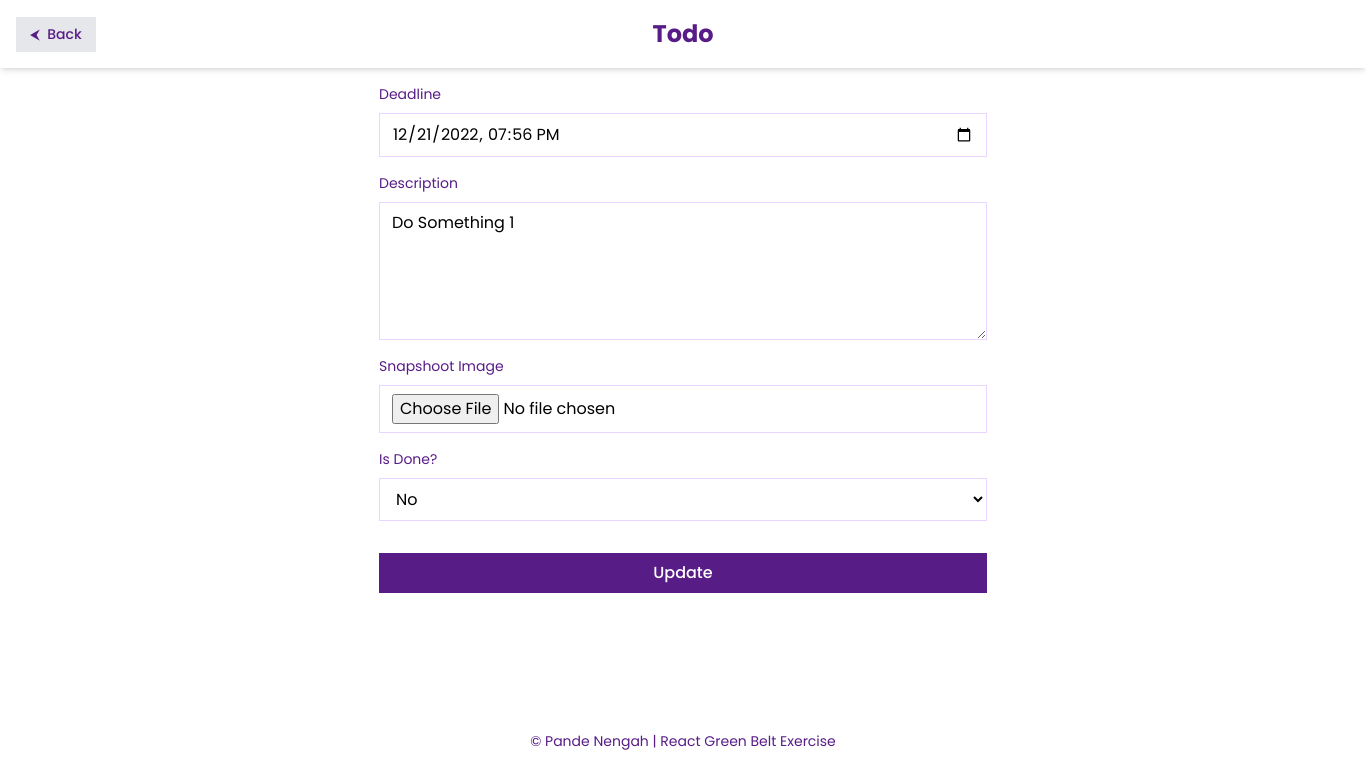
Test: TodoEdit › should render error message
Clear the field with test id "deadlineInput": (683, 135) [379,113,987,157]
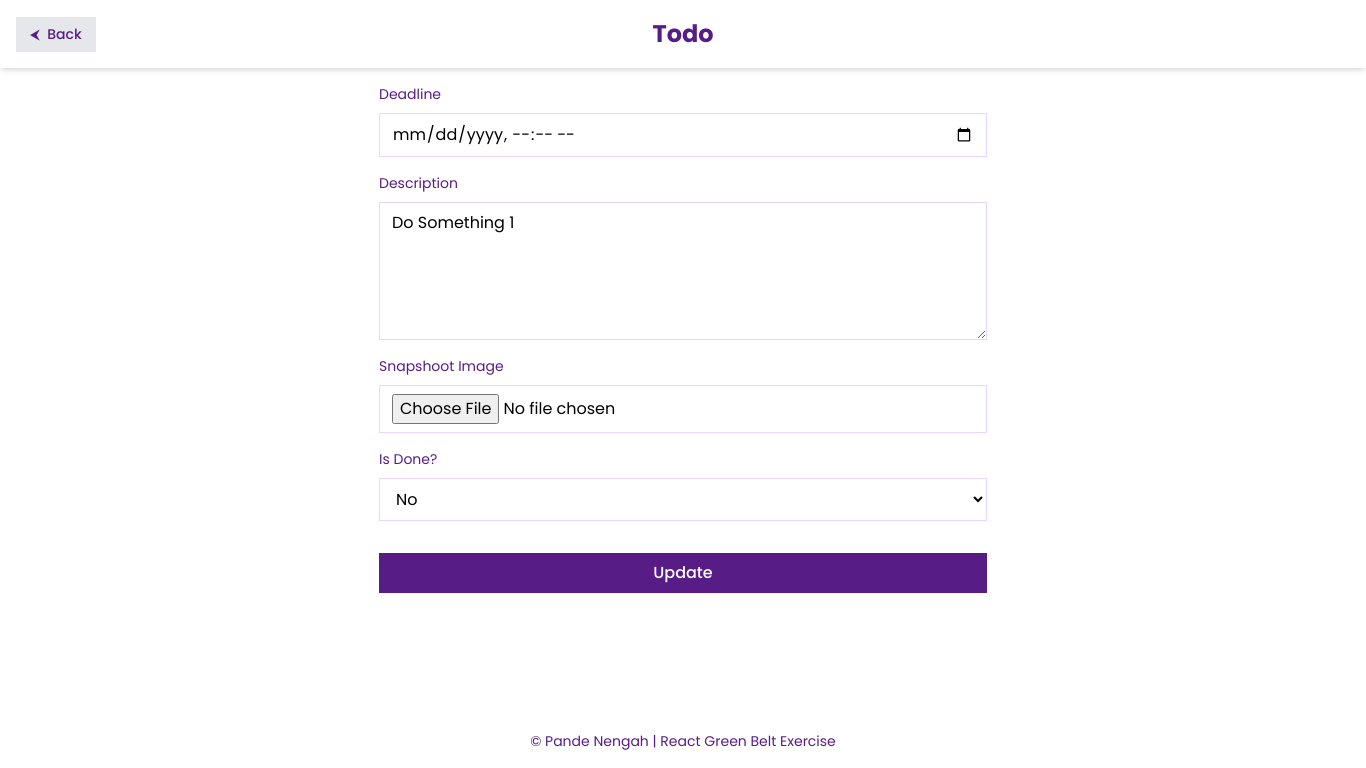
Clear the text box with test id "descriptionInput": (683, 271) [379,202,987,340]
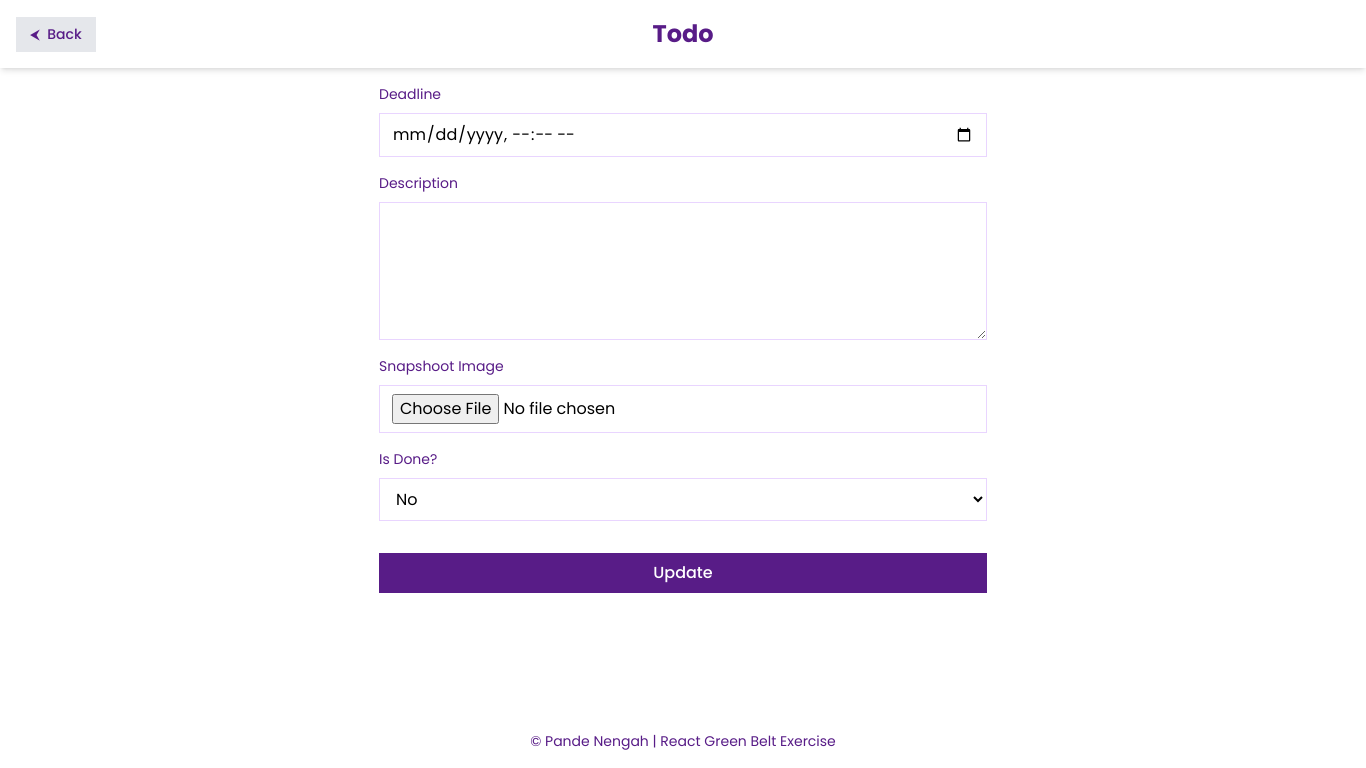
Select "" in the dropdown with test id "isDoneInput": (683, 500) [379,478,987,521]
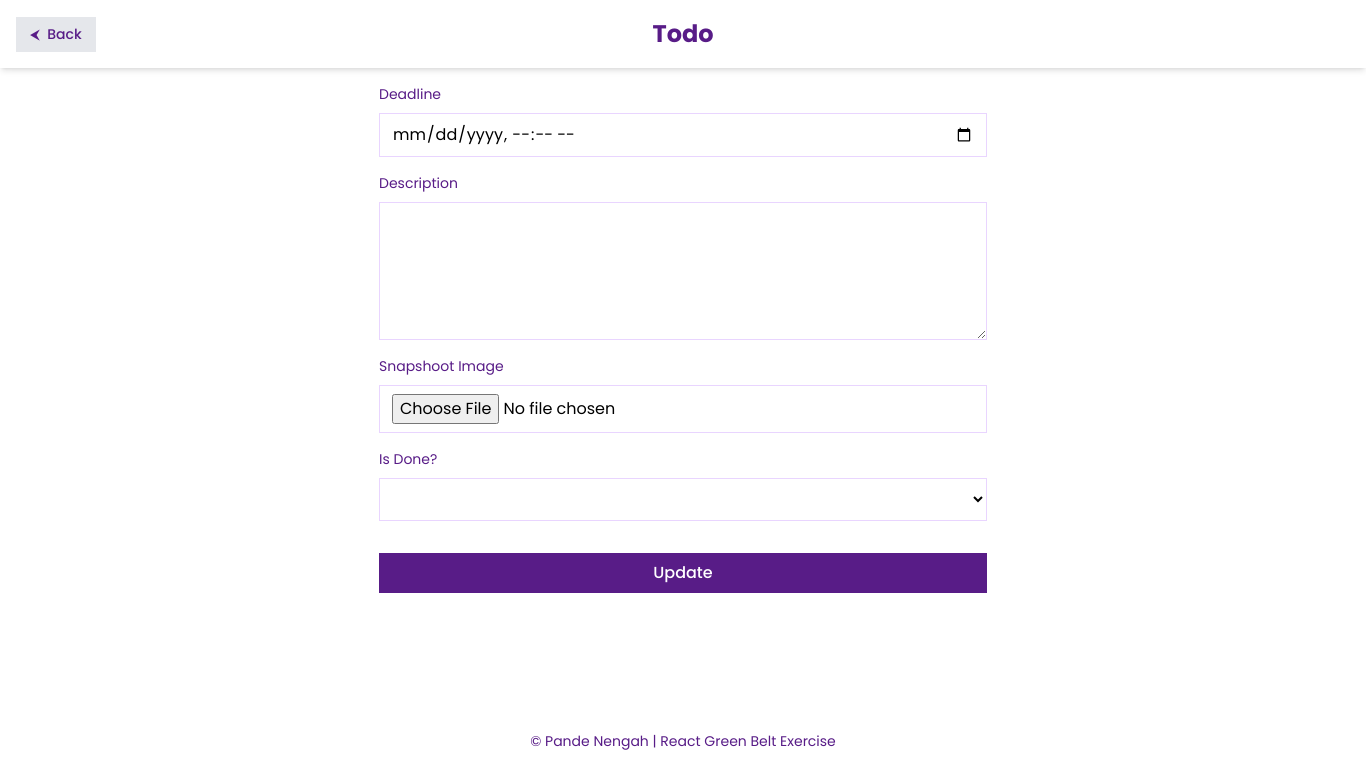
Click the button "Update": (683, 573) [379,553,987,593]
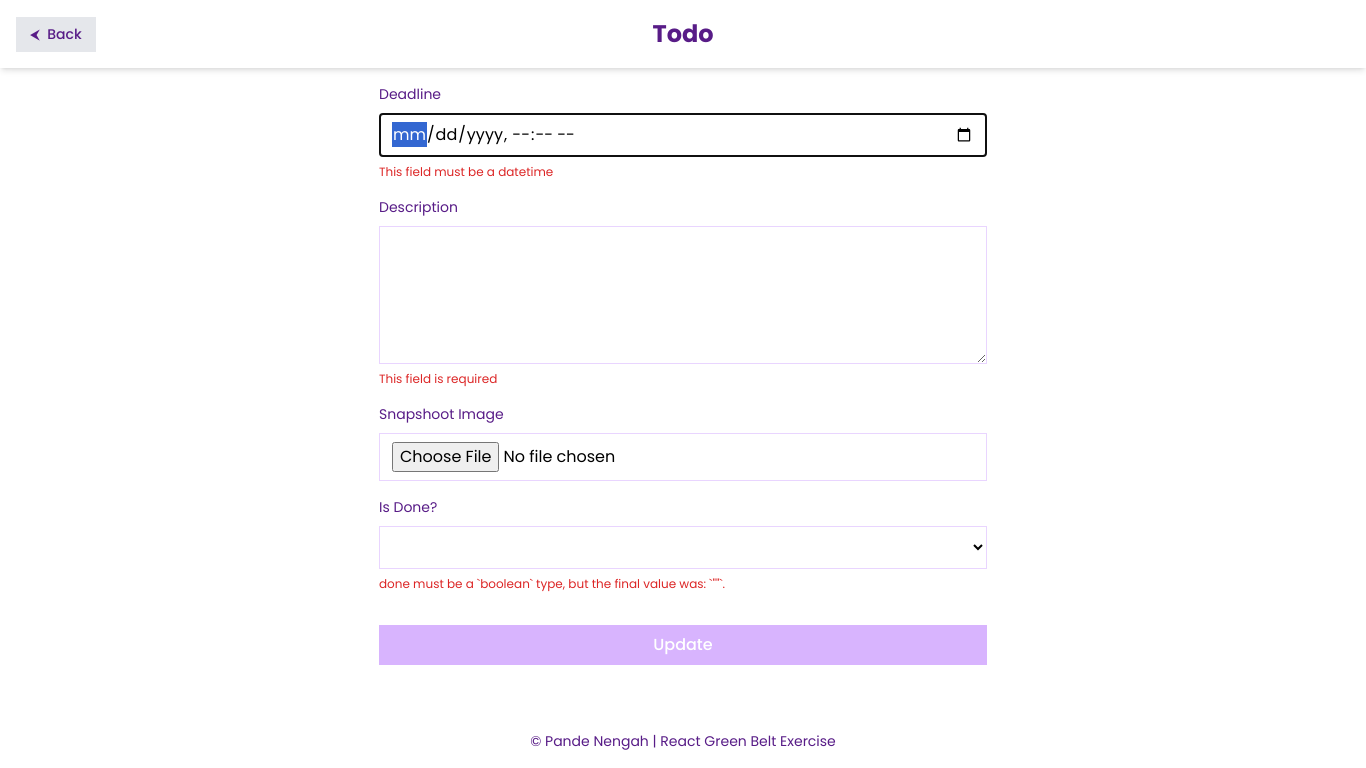
Now the number of elements with test id "errorMsgElm" is 3, box [379,163,553,180]; [379,370,497,387]; [379,575,725,592]
